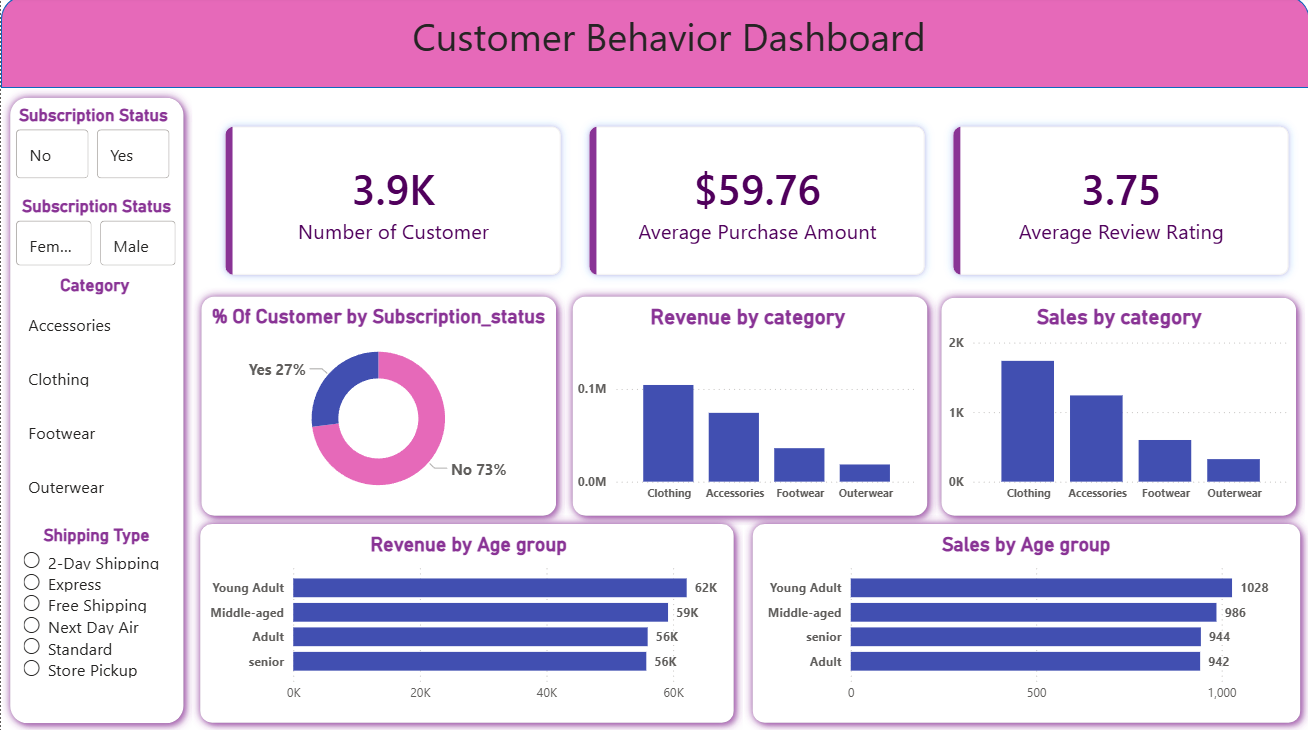

What the dashboard file says about the page in this screenshot:
{"tool":"powerbi","page":{"name":"Dashboard","canvas":[1280,720],"ordinal":0},"visuals":[{"type":"cardVisual","fields":{"Data":["public customer.Number of Customer","public customer.Average Purchase Amount","public customer.Average Review Rating"]},"box":[197.5,106.2,1082.5,187.5],"z":0},{"type":"shape","box":[0,0,1280,90],"z":1000},{"type":"textbox","box":[241.2,8.8,825,68.8],"z":2000},{"type":"shape","box":[187.5,285,365,232.5],"z":3000},{"type":"donutChart","title":"% Of Customer by Subscription_status","fields":{"Category":["public customer.subscription_status"],"Y":["CountNonNull(public customer.customer_id)"]},"box":[197.5,302.5,342.5,201.2],"z":4000},{"type":"shape","box":[550,285,365,232.5],"z":5000},{"type":"shape","box":[911.2,286.2,365,231.2],"z":6000},{"type":"clusteredColumnChart","title":"Revenue by category","fields":{"Category":["public customer.category"],"Y":["Sum(public customer.purchase_amount)"]},"box":[558.8,302.5,343.8,201.2],"z":7000},{"type":"clusteredColumnChart","title":"Sales by category","fields":{"Category":["public customer.category"],"Y":["CountNonNull(public customer.customer_id)"]},"box":[922.5,302.5,343.8,201.2],"z":8000},{"type":"shape","box":[0,90,187.5,630],"z":9000},{"type":"advancedSlicerVisual","title":"Subscription Status","fields":{"Values":["public customer.subscription_status"]},"box":[10,106.2,161.2,77.5],"z":10000},{"type":"advancedSlicerVisual","title":"Subscription Status","fields":{"Values":["public customer.gender"]},"box":[10,196.2,167.5,73.8],"z":11000},{"type":"advancedSlicerVisual","title":"Category","fields":{"Values":["public customer.category"]},"box":[8.8,272.5,166.2,235],"z":12000},{"type":"listSlicer","title":"Shipping Type","fields":{"Values":["public customer.shipping_type"]},"box":[16.2,517.5,155,202.5],"z":13000},{"type":"shape","box":[186.2,507.5,540,212.5],"z":14000},{"type":"clusteredBarChart","title":" Revenue by Age group","fields":{"Category":["public customer.age_group"],"Y":["Sum(public customer.purchase_amount)"]},"box":[197.5,526.2,518.8,173.8],"z":15000},{"type":"shape","box":[726.2,507.5,553.8,212.5],"z":16000},{"type":"clusteredBarChart","title":" Sales by Age group","fields":{"Category":["public customer.age_group"],"Y":["CountNonNull(public customer.customer_id)"]},"box":[743.8,526.2,518.8,173.8],"z":17000}]}

Visuals, with their boxes in screenshot pixels (x1, y1, x2, y2), scaled from the page's 1280x720 canvas onto the 1308x730 screenshot:
cardVisual - public customer.Number of Customer x public customer.Average Purchase Amount: 202,108,1307,298
shape: 0,0,1307,91
textbox: 246,9,1090,79
shape: 192,289,565,525
"% Of Customer by Subscription_status" donutChart: 202,307,552,511
shape: 562,289,935,525
shape: 931,290,1304,525
"Revenue by category" clusteredColumnChart: 571,307,922,511
"Sales by category" clusteredColumnChart: 943,307,1294,511
shape: 0,91,192,729
"Subscription Status" advancedSlicerVisual: 10,108,175,186
"Subscription Status" advancedSlicerVisual: 10,199,181,274
"Category" advancedSlicerVisual: 9,276,179,515
"Shipping Type" listSlicer: 17,525,175,729
shape: 190,515,742,729
" Revenue by Age group" clusteredBarChart: 202,534,732,710
shape: 742,515,1307,729
" Sales by Age group" clusteredBarChart: 760,534,1290,710
